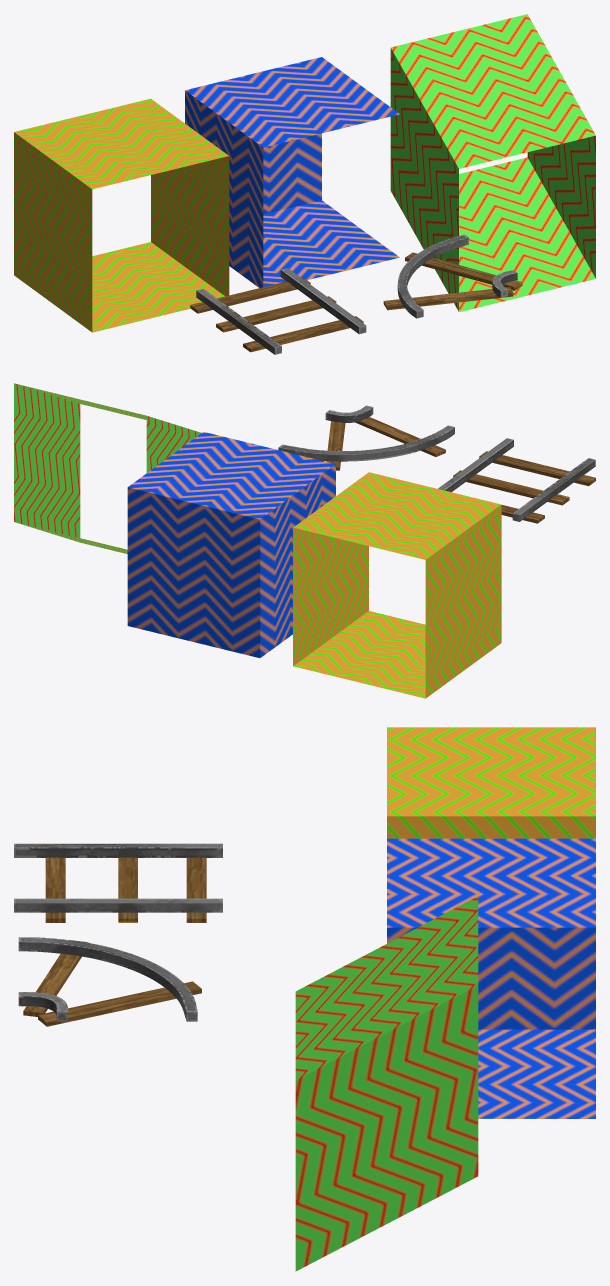
Rendered from duct_lane.fbx.
The picture shows the model from 3 angles, top to bottom: view 1: azimuth 30°, elevation 25°; view 2: azimuth 150°, elevation 25°; view 3: azimuth 270°, elevation 25°; orthographic projection. The views are drawn at different scales.
Parts seen in each view (by area): view 1: duct_slope, duct_straight, duct_corner, rail_straight, rail_corner; view 2: duct_straight, duct_corner, duct_slope, rail_straight, rail_corner; view 3: duct_slope, duct_corner, duct_straight, rail_straight, rail_corner.
Part boxes in pixels (x1,y1,x2,y2): duct_slope: (390, 14, 595, 312); duct_straight: (14, 98, 229, 332); duct_corner: (185, 57, 399, 287); rail_straight: (190, 268, 366, 354); rail_corner: (383, 234, 522, 318); duct_straight: (293, 472, 501, 698); duct_corner: (127, 432, 335, 657); duct_slope: (14, 383, 201, 553); rail_straight: (438, 438, 595, 523); rail_corner: (278, 405, 454, 470); duct_slope: (295, 896, 478, 1271); duct_corner: (387, 838, 595, 1118); duct_straight: (387, 727, 595, 838); rail_straight: (14, 843, 222, 922); rail_corner: (18, 937, 201, 1026).
Size of the model in its own units: 1050 by 459 by 845.
Materials: 1 (1 with a texture image).
